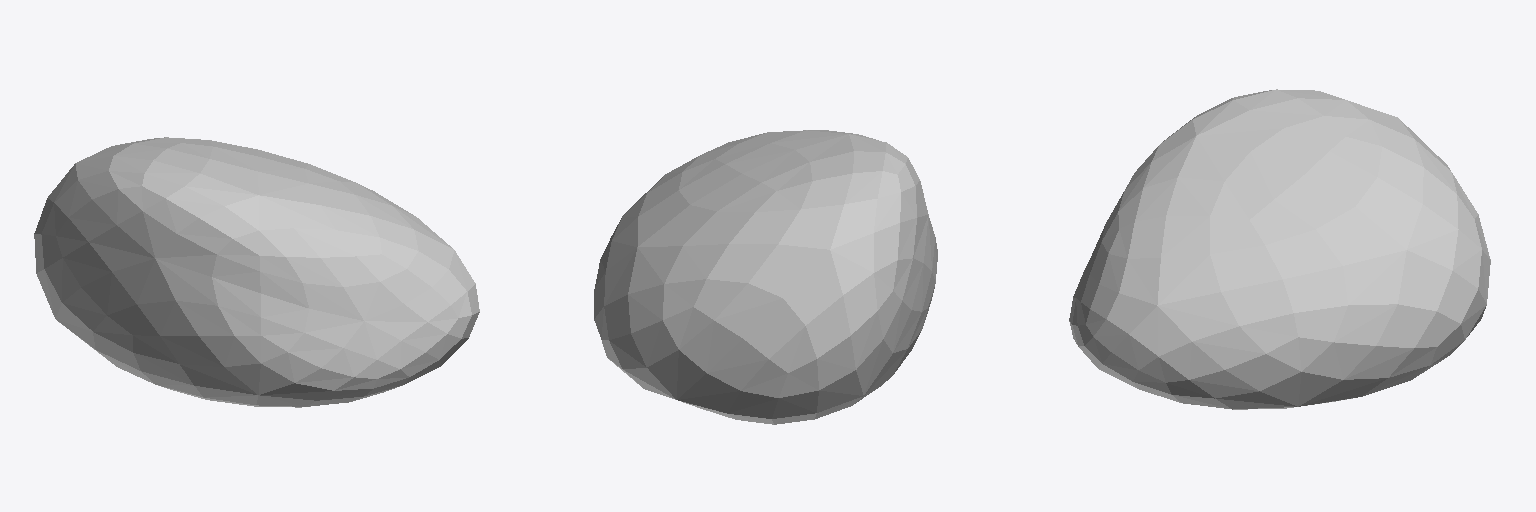
File: rock2.obj
3 views of the same model, side by side, from view 1: azimuth 30°, elevation 25°; view 2: azimuth 150°, elevation 25°; view 3: azimuth 270°, elevation 25° (orthographic).
Visible parts, largest first — view 1: Icosphere_005; view 2: Icosphere_005; view 3: Icosphere_005.
Part boxes in pixels (x1,y1,x2,y2): Icosphere_005: (34, 137, 479, 407); Icosphere_005: (594, 130, 937, 424); Icosphere_005: (1069, 89, 1490, 409).
Bounding box in the file's own units: 5.87 × 3.83 × 6.54.